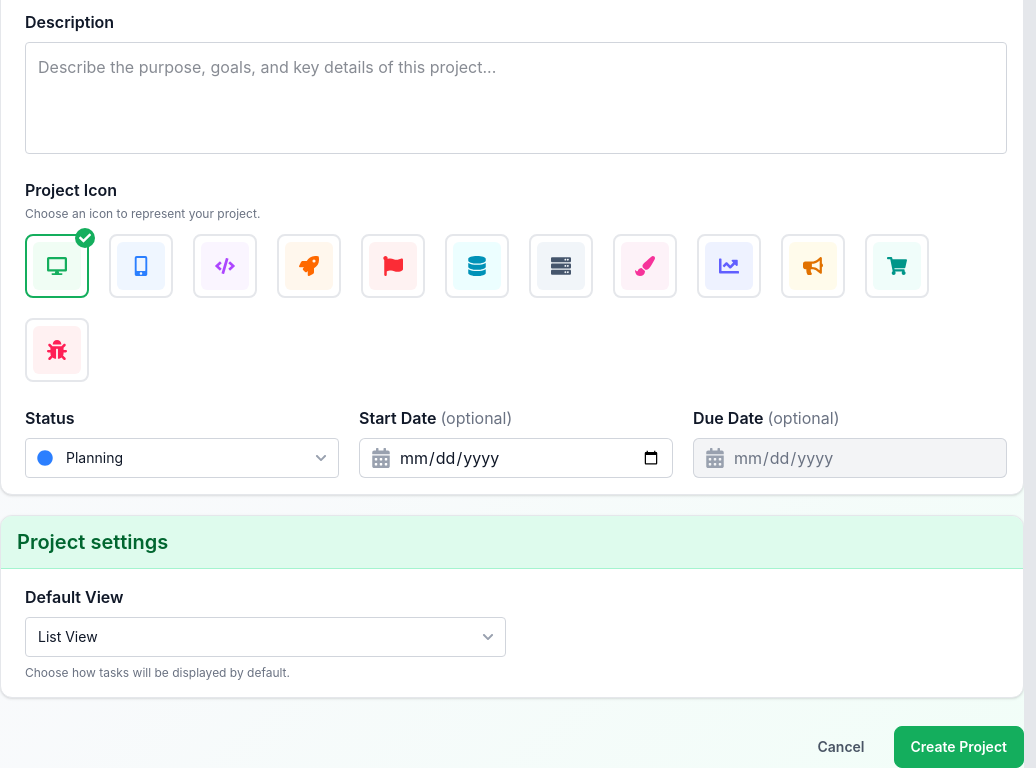
Test: ProjectForm › renders the project fields and validates the required project name
(page scrolled)
Expected: the heading "Project settings" is shown, [17, 528, 168, 556]
Click the button "Create Project" at [959, 747], box [894, 726, 1024, 767]
(page scrolled)
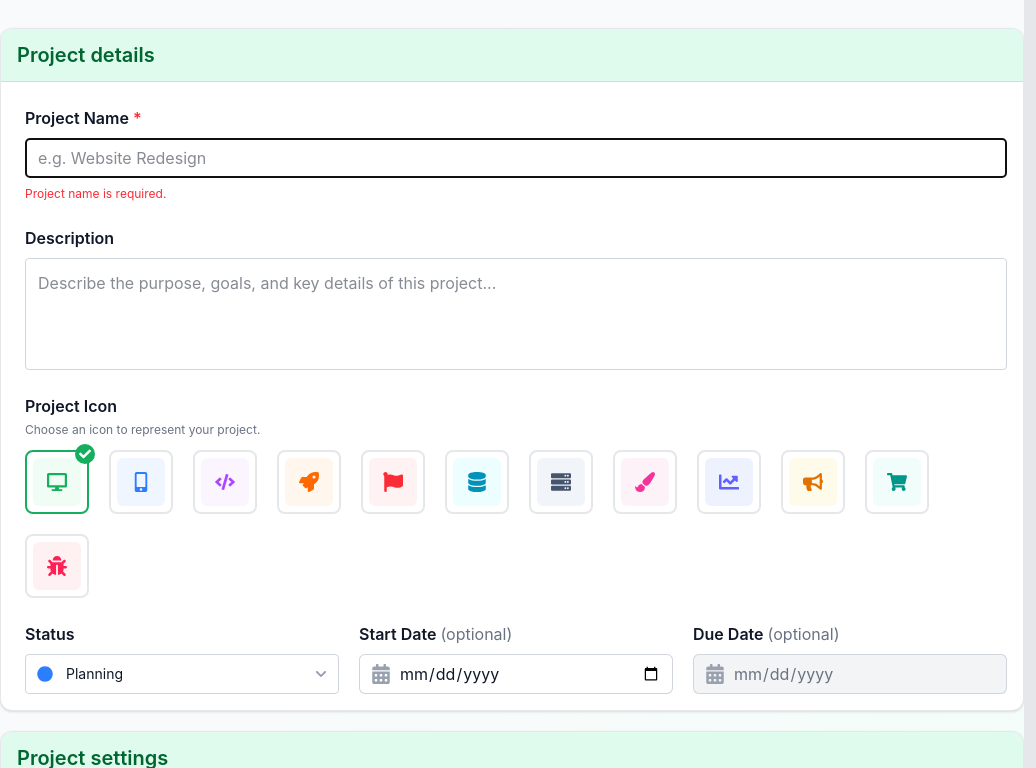
Now the text "Project name is required." is shown, box [25, 186, 166, 201]
